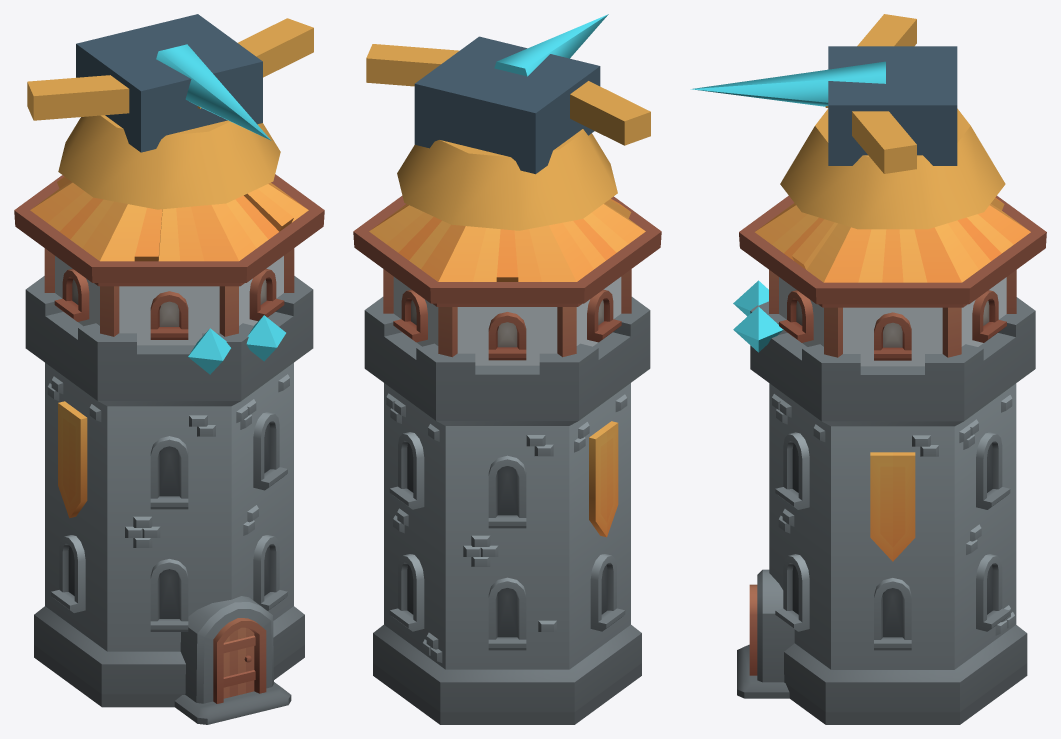
The model's file is tower_lightning_l2.glb.
3 views of the same model, side by side, from view 1: azimuth 30°, elevation 25°; view 2: azimuth 150°, elevation 25°; view 3: azimuth 270°, elevation 25° (orthographic).
Visible parts, largest first — view 1: Base, building_tower_A_top_yellow, BarrelAssembly, Turret; view 2: Base, building_tower_A_top_yellow, BarrelAssembly, Turret; view 3: Base, building_tower_A_top_yellow, BarrelAssembly, Turret.
Part boxes in pixels (box(x1,y1,x2,y2)): Base: box(25, 276, 313, 724); building_tower_A_top_yellow: box(14, 174, 324, 345); BarrelAssembly: box(27, 14, 313, 152); Turret: box(58, 115, 280, 209); Base: box(364, 297, 650, 724); building_tower_A_top_yellow: box(353, 195, 661, 365); BarrelAssembly: box(366, 14, 650, 174); Turret: box(397, 129, 617, 230); Base: box(733, 280, 1035, 724); building_tower_A_top_yellow: box(739, 195, 1046, 366); BarrelAssembly: box(690, 14, 957, 173); Turret: box(780, 108, 1005, 229).
Size of the model in its own units: 1.2 by 2.49 by 1.33.
4 materials, 1 textured.
